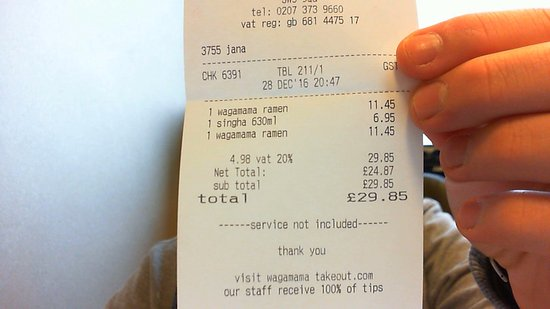Additional details: (177, 210, 421, 306)
Purchase summary: (184, 53, 421, 211)
Receipt: (174, 1, 421, 307)
Shop details: (180, 1, 410, 56)
